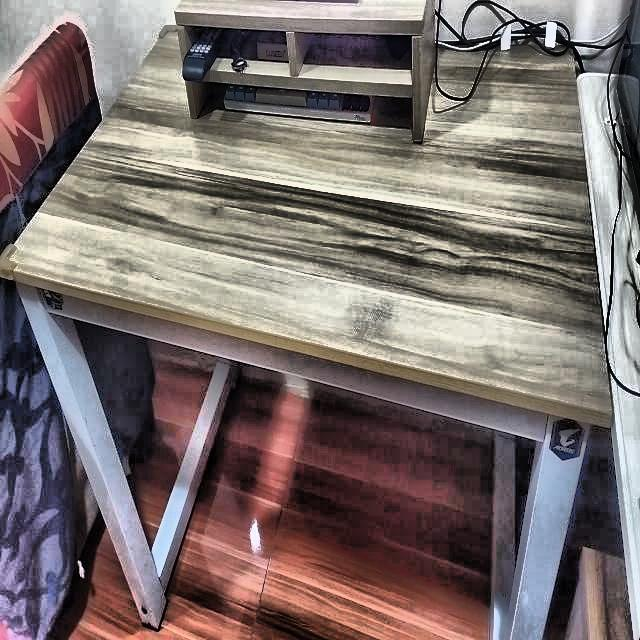mesa: (0, 16, 607, 640)
